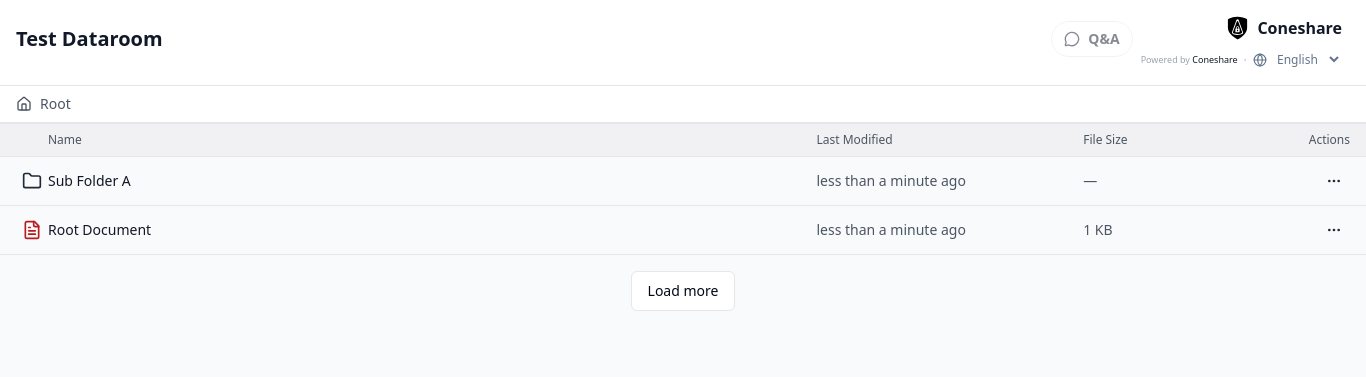
Scenario: DataroomViewer › loads next page with next_offset when clicking Load more
Click the button "Load more": coordinates (683, 291) top-left (631, 271), bottom-right (736, 311)
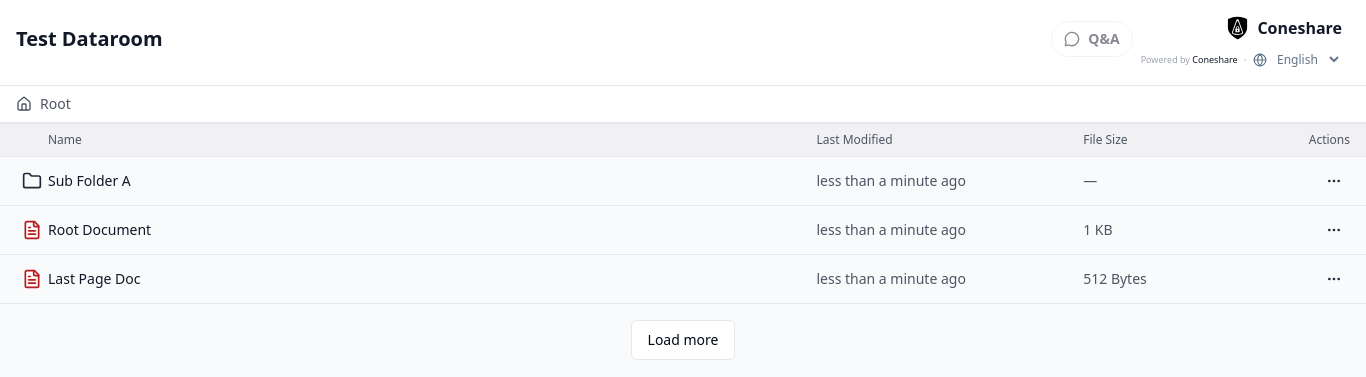
Expected: the button "Last Page Doc" is shown, top-left (48, 269), bottom-right (800, 289)
